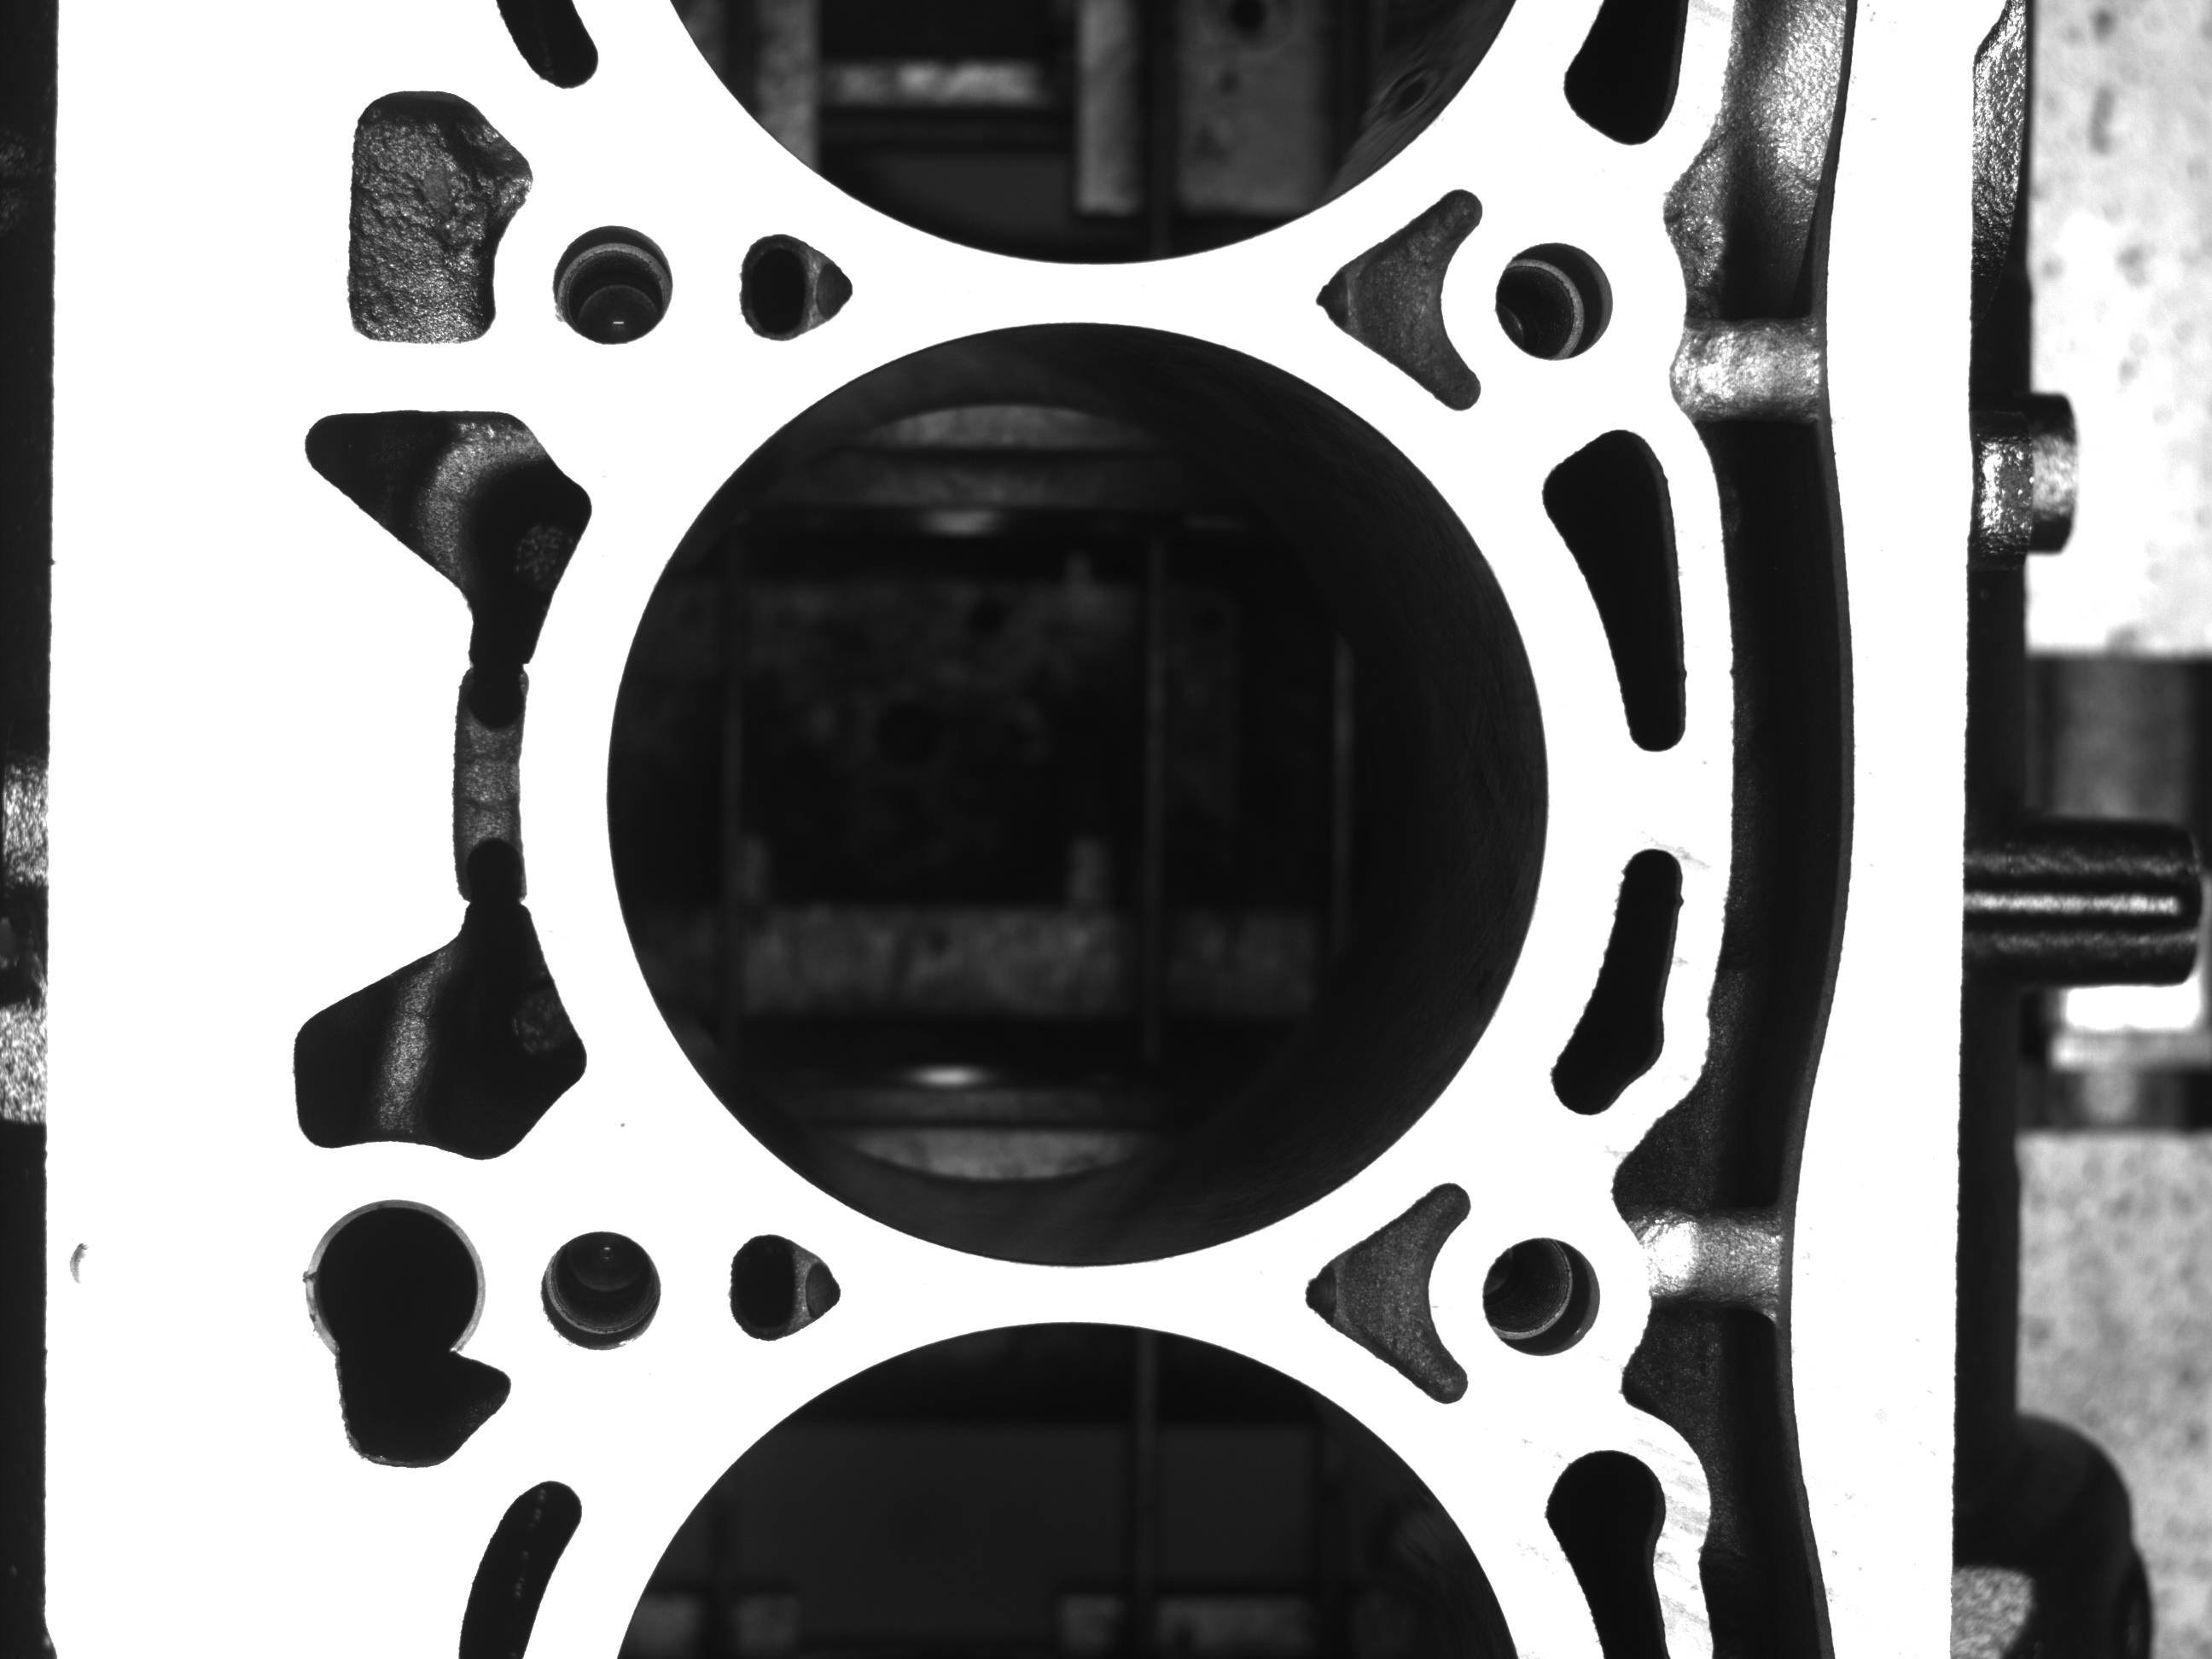shrinkage: (63, 1225, 153, 1314)
